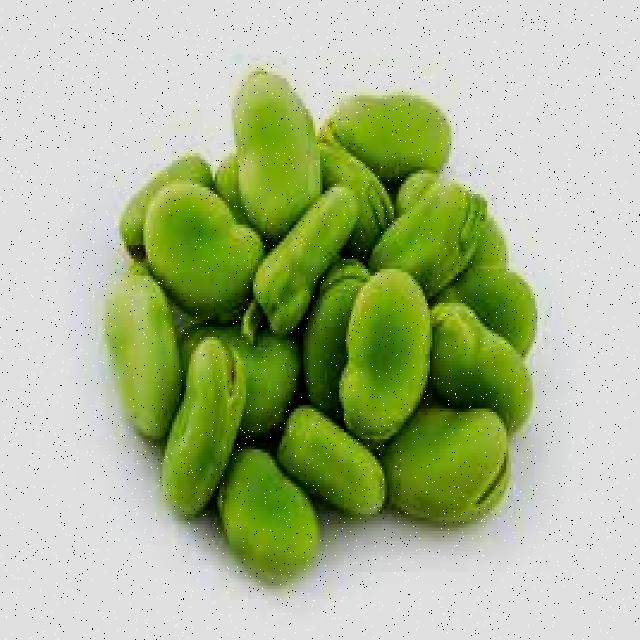Broad Beans: (102, 66, 535, 587), (118, 72, 369, 340)
